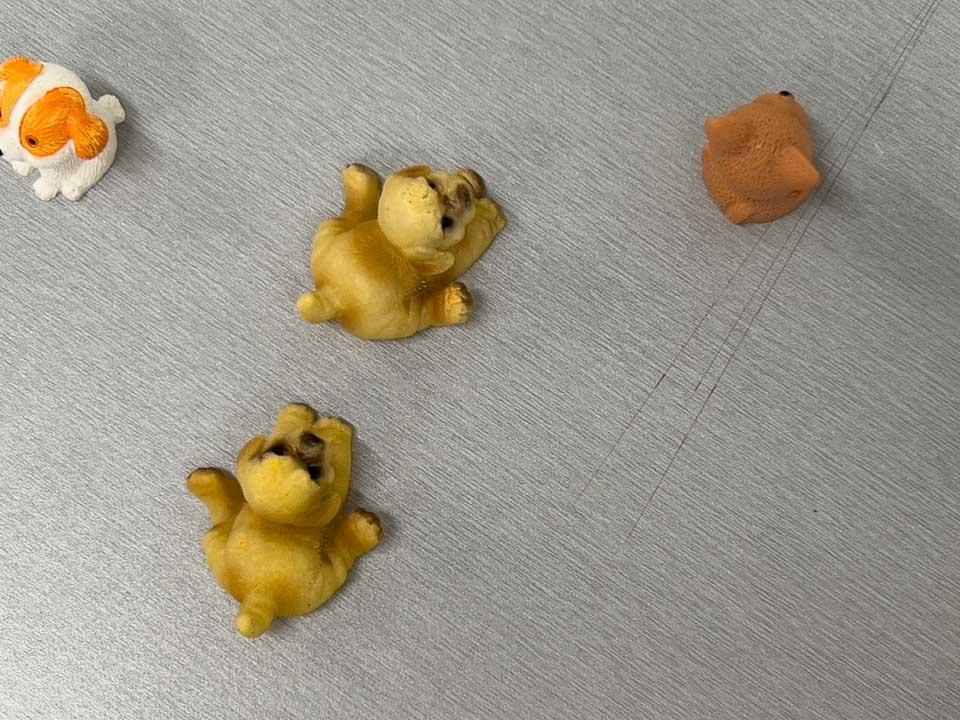pet: (183, 399, 387, 642), (294, 157, 505, 341), (689, 89, 827, 225)
